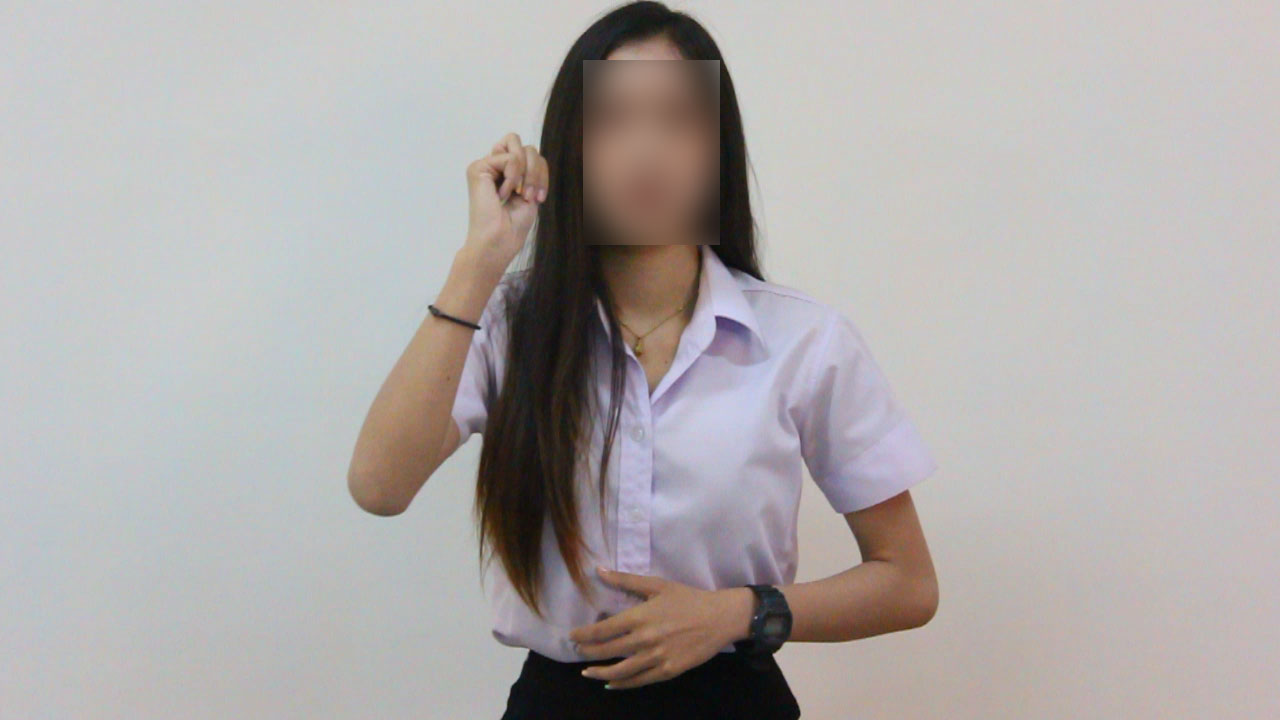mor: (462, 122, 558, 271)
